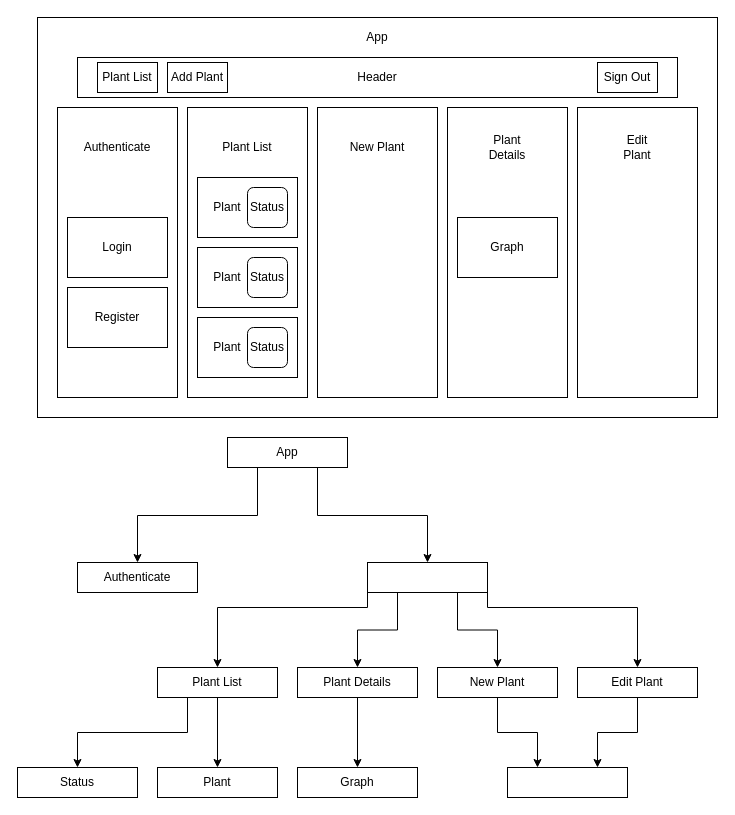
This 735x815 diagram has some shape labels left out. Here are the shapes that lost their labels. From the top down, the centre of each, then its label:
At (x=427, y=577): "Plant Control".
At (x=567, y=782): "Reusable Form".
